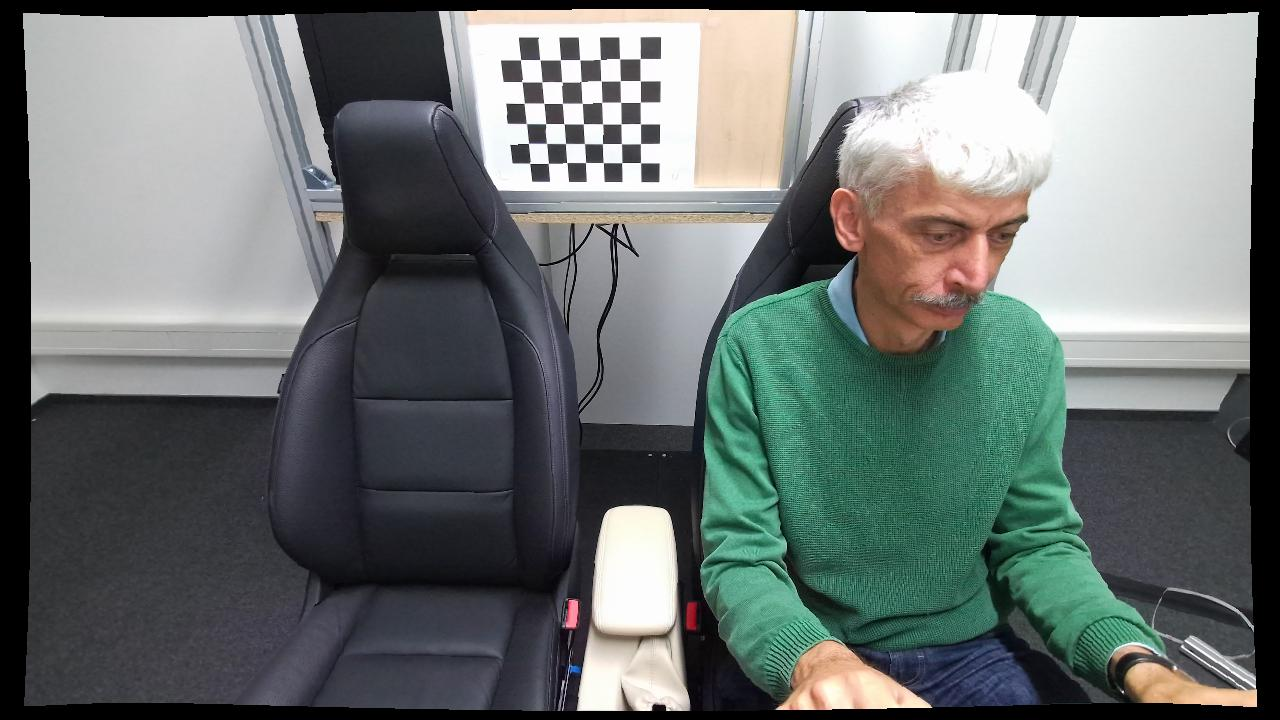SafeDriving: (700, 68, 1149, 714)
